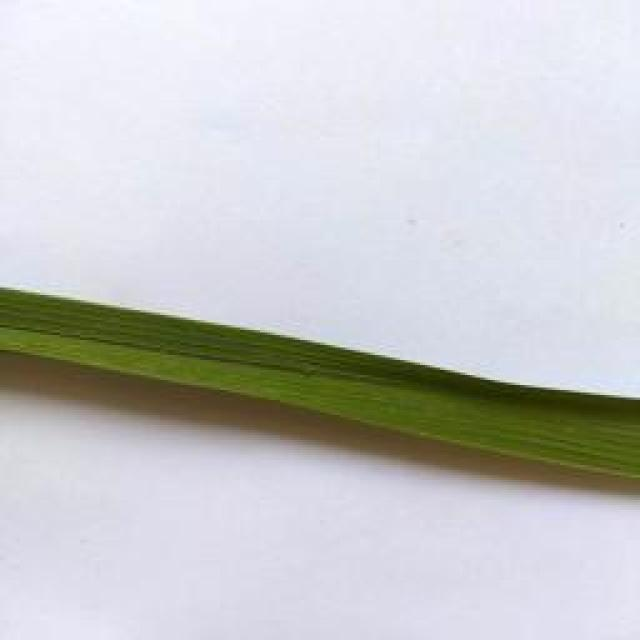Healthy-Plant: (0, 282, 640, 484)
